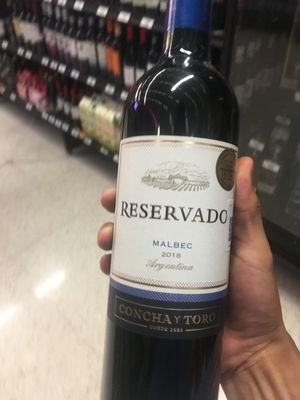reservado malbec: (108, 20, 258, 400)
